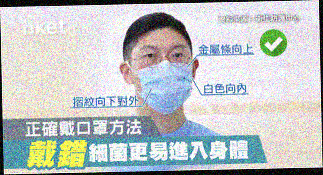with_mask: (131, 40, 193, 113)
